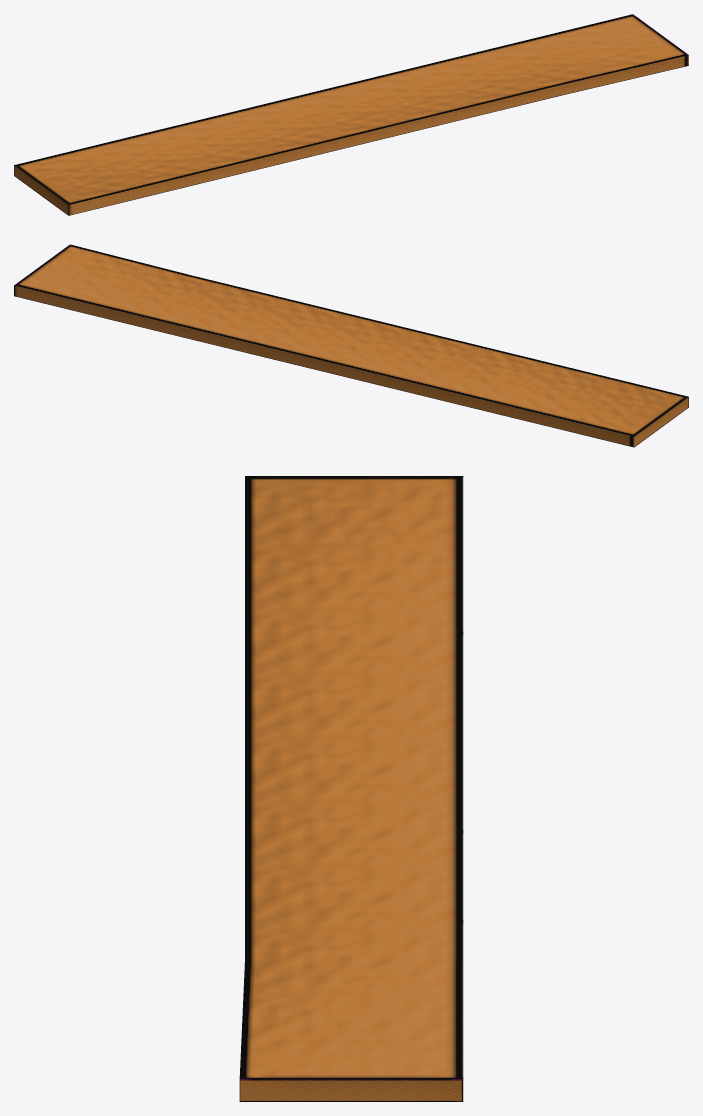
The model's file is DoorSlot.fbx.
3 views of the same model, one above another, from view 1: azimuth 30°, elevation 25°; view 2: azimuth 150°, elevation 25°; view 3: azimuth 270°, elevation 25° (orthographic). The views are drawn at different scales.
Visible parts, largest first — view 1: DoorSlot; view 2: DoorSlot; view 3: DoorSlot.
Boxes of the visible parts, x1,y1,x2,y2 form: DoorSlot: (14,14,688,215); DoorSlot: (14,244,688,447); DoorSlot: (239,476,463,1101).
Bounding box in the file's own units: 23.02 × 0.3823 × 3.6.
